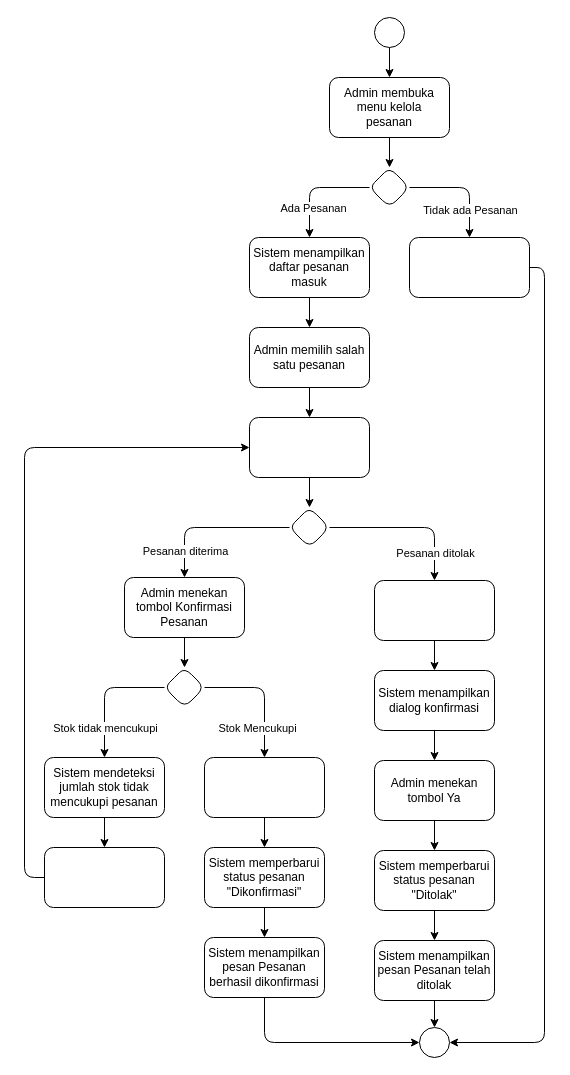
Some shapes in this 570 by 1075 pixel diagram are drawn without their labels. Here are the shapes that lost their labels. From the top down, the box of each, then its label:
(408, 236, 530, 298): Sistem tidak menemikan pesanan masuk
(248, 416, 370, 478): Sistem menampilkan detail lengkap pesanan
(374, 580, 494, 640): Admin menekan tombol Tolak Pesanan
(204, 756, 324, 818): Sistem memverifikasi ketersediaan stok barang yang dipesan
(44, 846, 164, 908): Sistem menampilkan pesan stok barang tidak mencukupi
